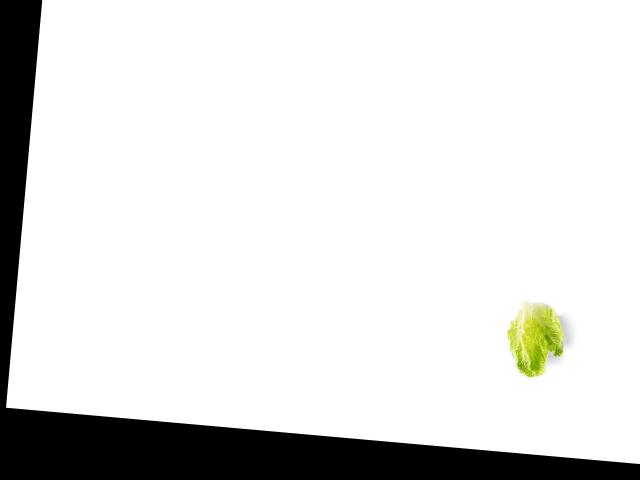lettuce: (500, 292, 569, 384)
